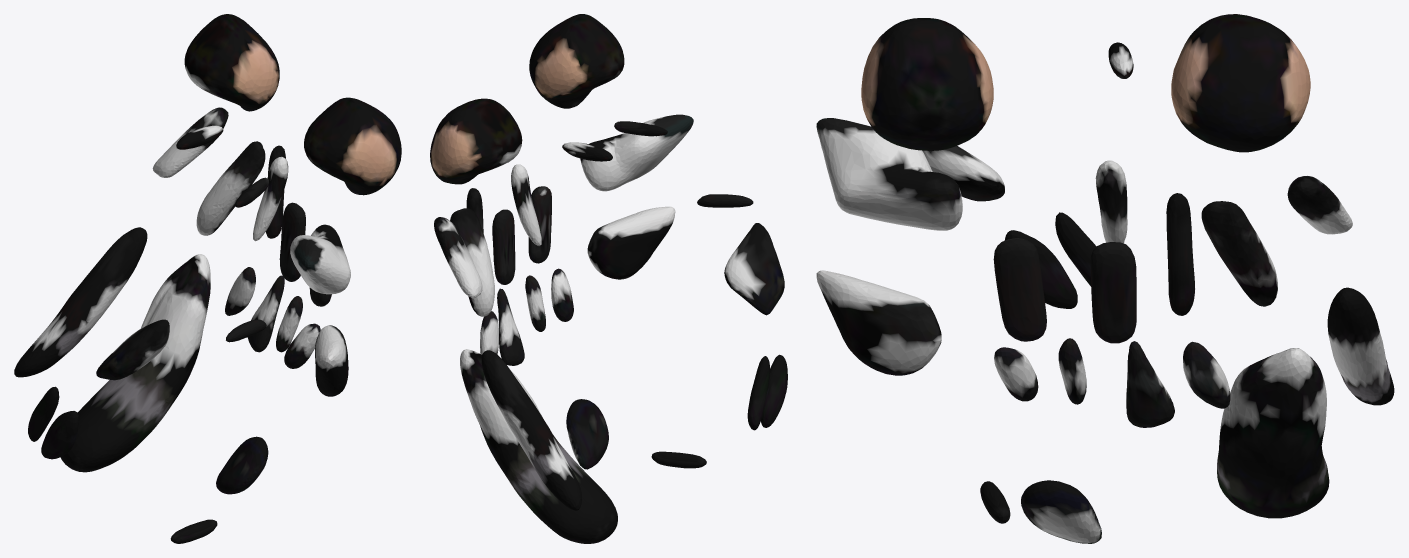
The model's file is wbottle_empty.glb.
The picture shows the model from 3 angles, left to right: view 1: azimuth 30°, elevation 25°; view 2: azimuth 150°, elevation 25°; view 3: azimuth 270°, elevation 25°; orthographic projection. The views are drawn at different scales.
Parts seen in each view (by area): view 1: geometry_0; view 2: geometry_0; view 3: geometry_0.
Boxes of the visible parts, x1,y1,x2,y2 form: geometry_0: (14,14,401,543); geometry_0: (430,14,787,543); geometry_0: (816,14,1394,543).
Size of the model in its own units: 0.4375 by 0.5857 by 0.5261.
